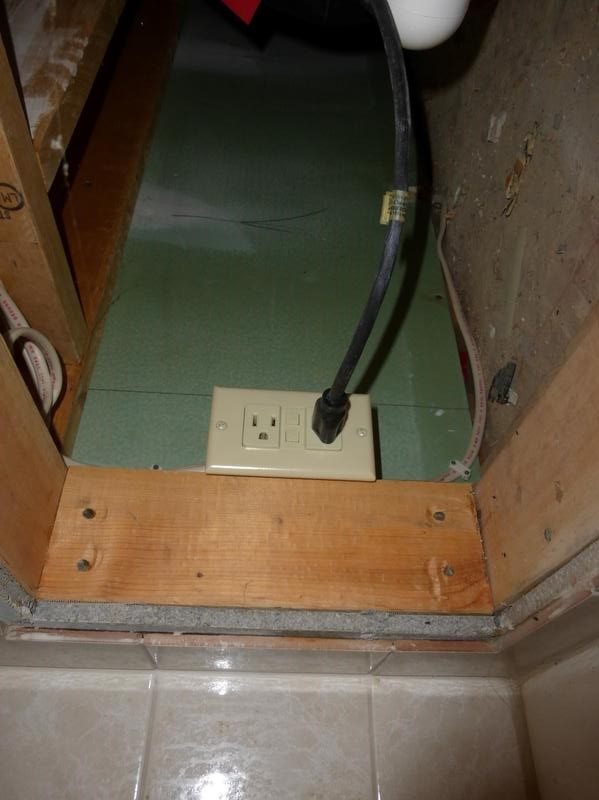outlet: (245, 406, 281, 444)
